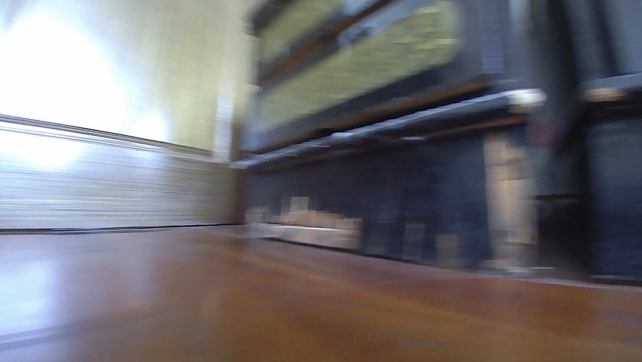cabinet: (226, 0, 566, 276)
